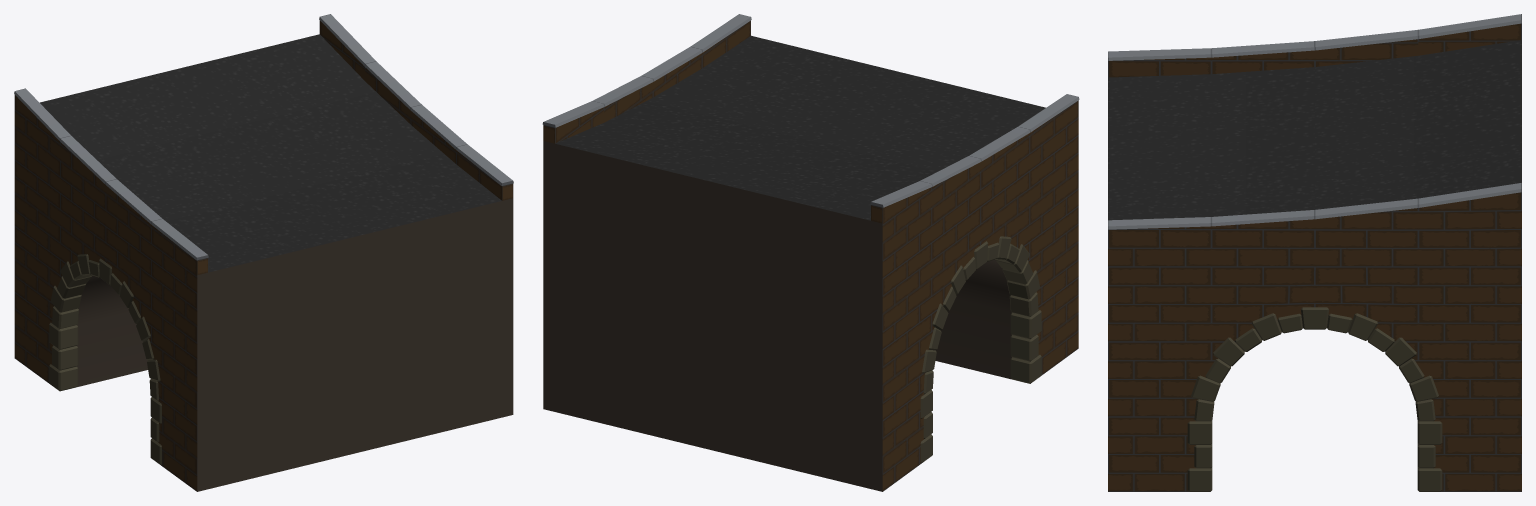
Rendered from SW_ENV_WalledRiserStart_DoubleTrack.fbx.
3 renders of one model, left to right at view 1: azimuth 30°, elevation 25°; view 2: azimuth 150°, elevation 25°; view 3: azimuth 270°, elevation 25°, orthographic. The views are drawn at different scales.
Visible parts, largest first — view 1: SW_ENV_WalledRiserStart_DoubleTrack; view 2: SW_ENV_WalledRiserStart_DoubleTrack; view 3: SW_ENV_WalledRiserStart_DoubleTrack.
Boxes of the visible parts, box(x1,y1,x2,y2) form: SW_ENV_WalledRiserStart_DoubleTrack: box(14, 14, 513, 491); SW_ENV_WalledRiserStart_DoubleTrack: box(542, 14, 1079, 491); SW_ENV_WalledRiserStart_DoubleTrack: box(1108, 14, 1521, 491).
Bounding box in the file's own units: 10.09 × 8.08 × 10.
